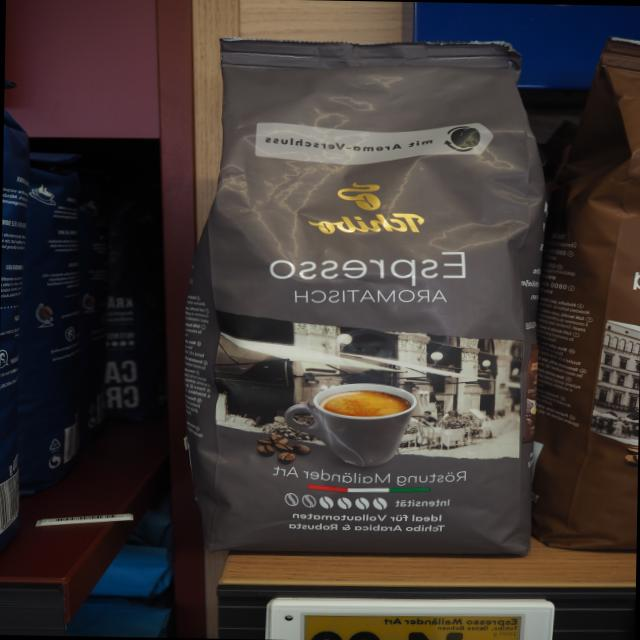Espresso Aromatisch: (168, 29, 558, 564)
